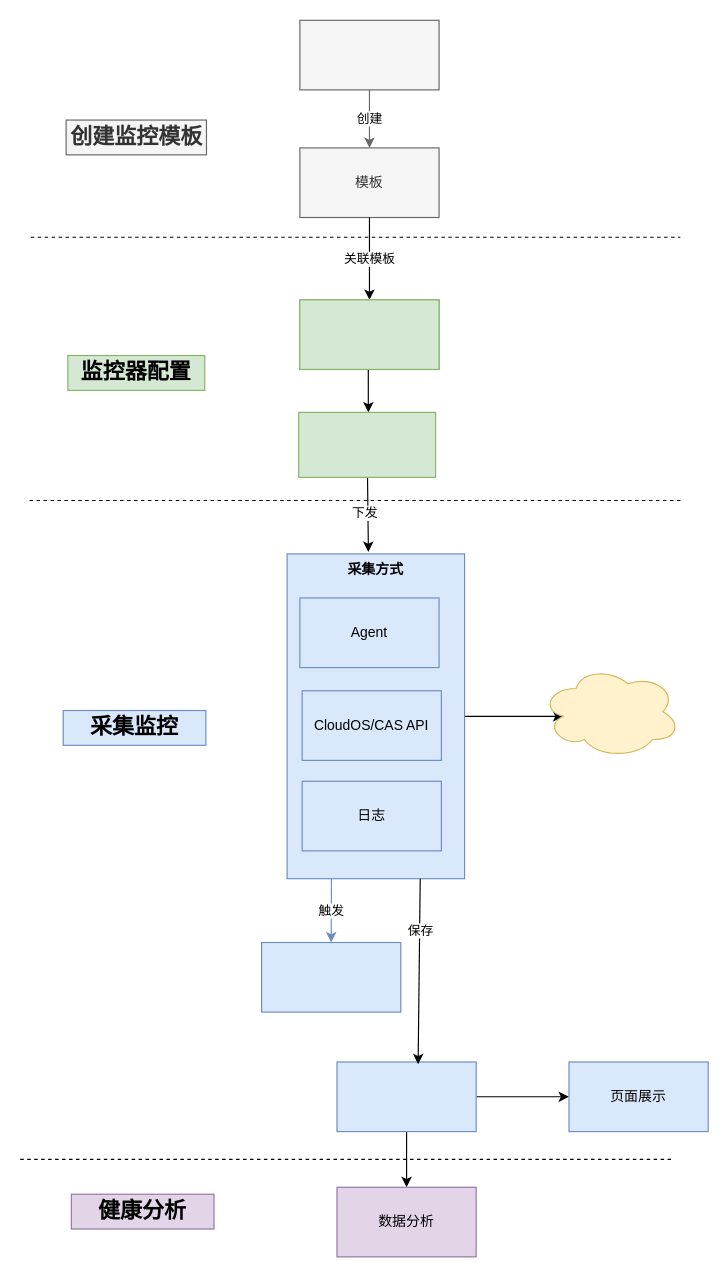
The diagram is 728 pixels wide and 1277 high, and some of its shapes have lost their labels. Here are the shapes that lost their labels. From the top down, the centre of each, then its label:
pixel 369 54: 可视化编辑
pixel 369 334: 配置监控页面
pixel 367 444: 配置告警阈值
pixel 610 711: 城轨云
pixel 330 976: 监控告警
pixel 406 1096: 数据存储
